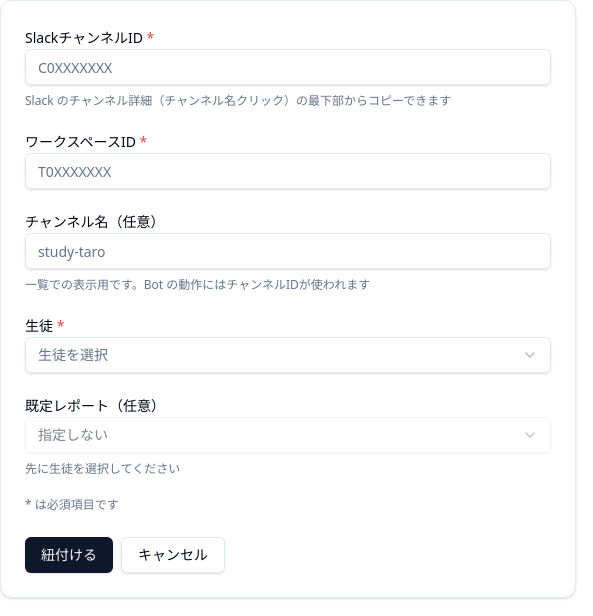
BindingForm（H-11: 既定レポート） › レポートが無い生徒ではその旨を伝える
Click the dropdown labelled "生徒を選択": x=73, y=354 [25,337,551,373]
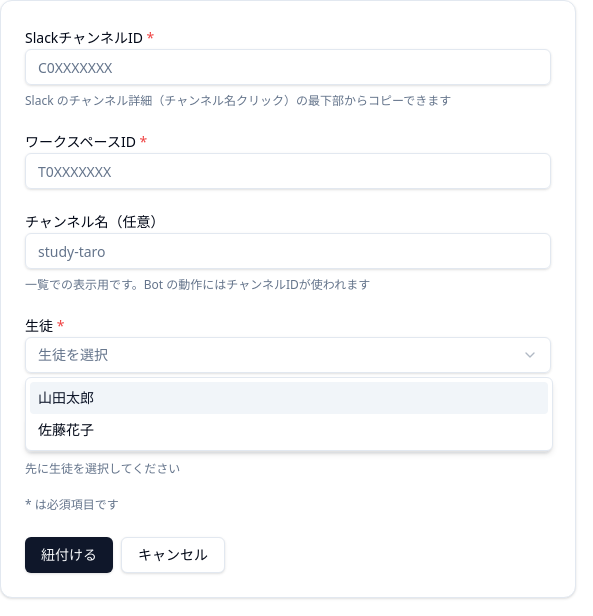
Click the option "佐藤花子": x=66, y=430 [38,420,94,439]
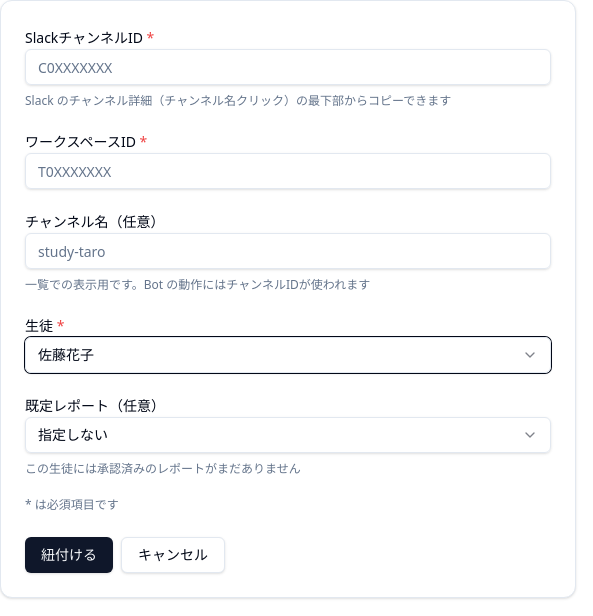
Now the text "この生徒には承認済みのレポートがまだありません" is shown, box [25,460,301,477]
